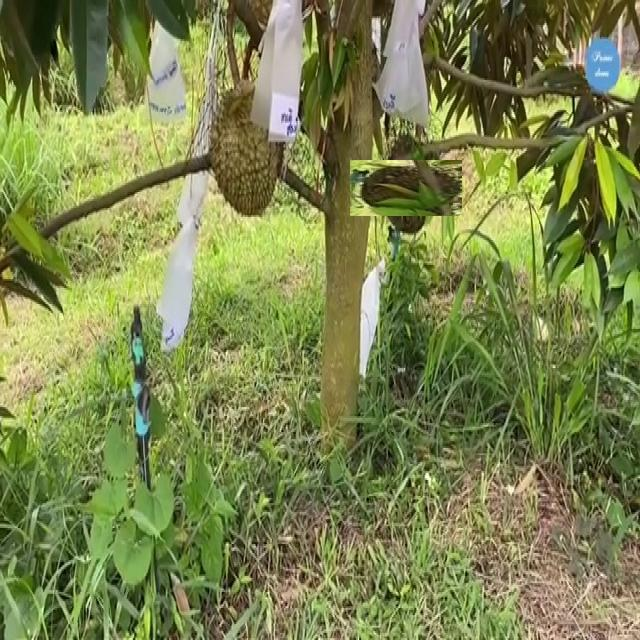durian: (204, 78, 287, 221), (364, 146, 448, 231)
